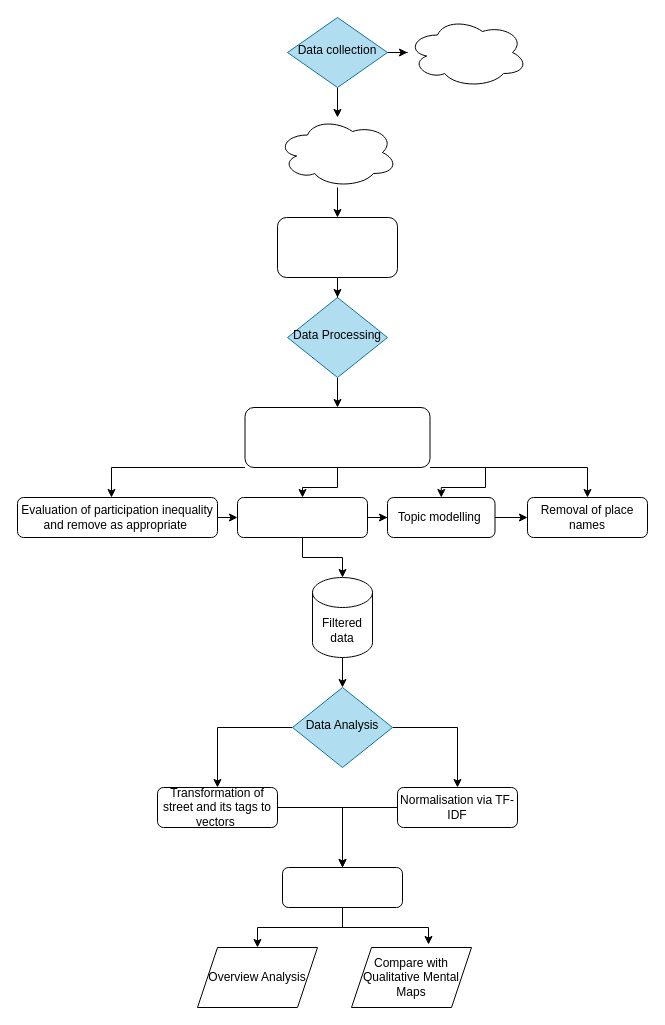
The diagram is 665 pixels wide and 1025 high, and some of its shapes have lost their labels. Each missing label, with the centre of its shape:
Downloaded images (JSON): point (337, 247)
Filter images to those within a 50m buffer from each major street: point (337, 437)
Flickr API: point (337, 152)
OS Road Network: point (467, 52)
Removal of duplicates, images with no tags etc.: point (302, 517)
Semantic similarity between adjacent vectors: point (342, 887)
